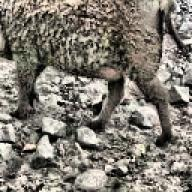boar: (0, 0, 186, 147)
